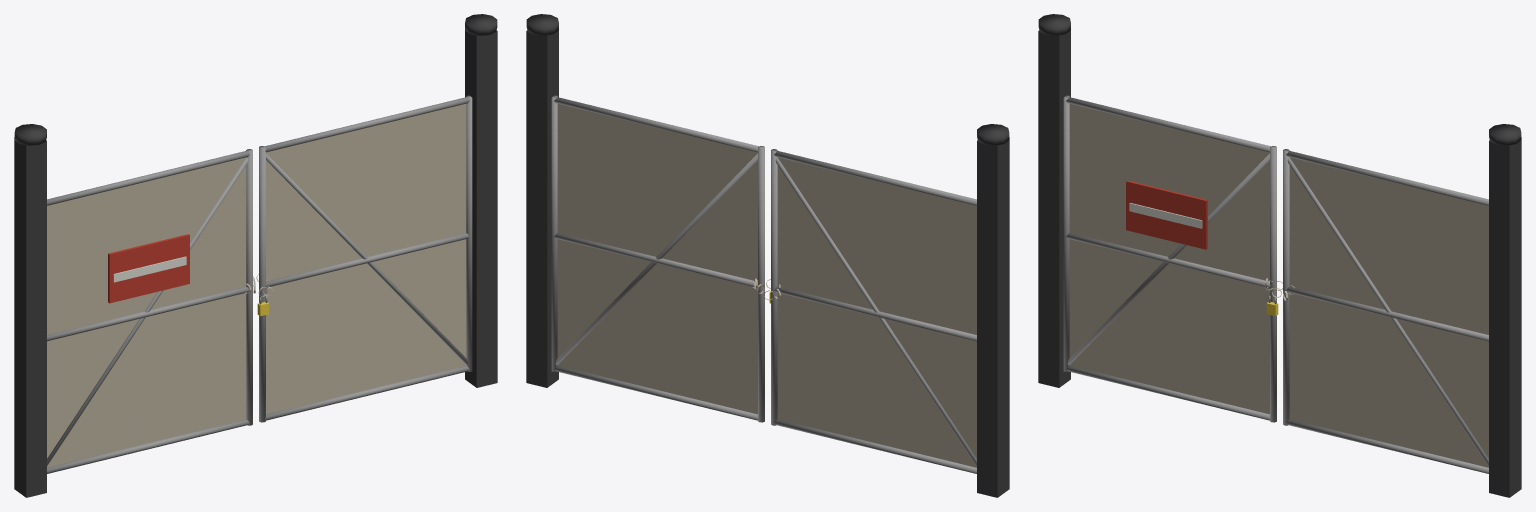
File: hood_gate.glb
3 views of the same model, side by side, from view 1: azimuth 30°, elevation 25°; view 2: azimuth 150°, elevation 25°; view 3: azimuth 330°, elevation 25° (orthographic).
Parts seen in each view (by area): view 1: GateR_v2, GateL_v2, post, brace.001, brace, sign, sign_band; view 2: GateR_v2, GateL_v2, post, brace.001, brace; view 3: GateR_v2, GateL_v2, post, brace, brace.001, sign, sign_band.
Boxes of the visible parts, box(x1,y1,x2,y2) form: GateR_v2: box(266, 104, 466, 414); GateL_v2: box(47, 157, 246, 467); post: box(14, 14, 497, 497); brace.001: box(259, 95, 472, 422); brace: box(47, 149, 252, 473); sign: box(108, 234, 189, 303); sign_band: box(113, 256, 186, 282); GateR_v2: box(557, 104, 757, 414); GateL_v2: box(777, 157, 976, 467); post: box(526, 14, 1009, 497); brace.001: box(551, 95, 764, 422); brace: box(771, 149, 976, 473); GateR_v2: box(1289, 157, 1488, 467); GateL_v2: box(1069, 104, 1269, 414); post: box(1038, 14, 1521, 497); brace: box(1063, 95, 1276, 422); brace.001: box(1283, 149, 1488, 473); sign: box(1126, 180, 1207, 249); sign_band: box(1129, 203, 1202, 228).
Bounding box in the file's own units: 3.69 × 2.66 × 0.2274.
